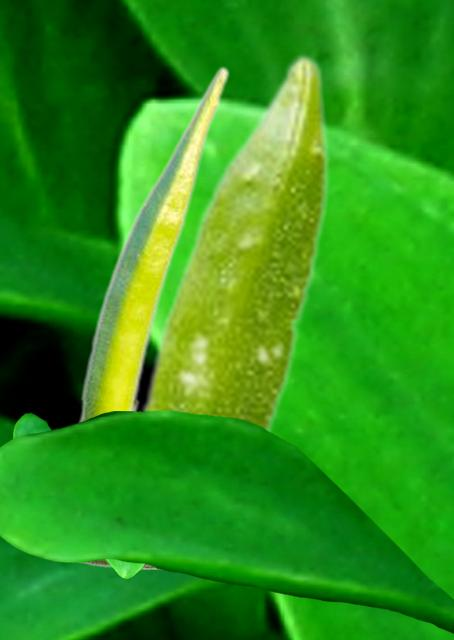okra: (140, 51, 330, 433), (76, 65, 229, 421)
